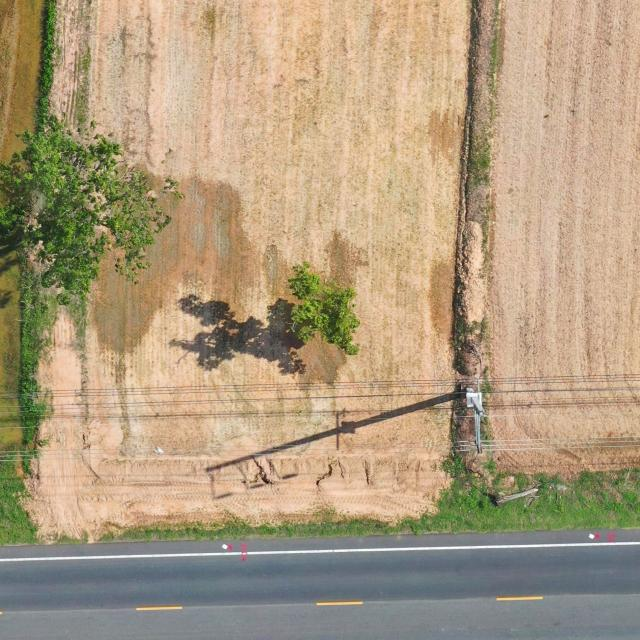Tree: (0, 112, 171, 299), (286, 260, 361, 357)
